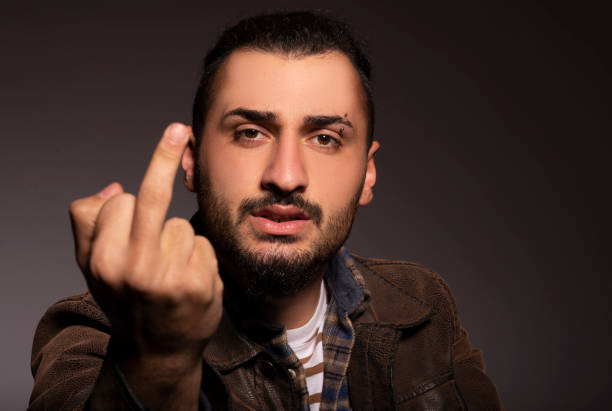insulting_gesture: (68, 119, 221, 338)
